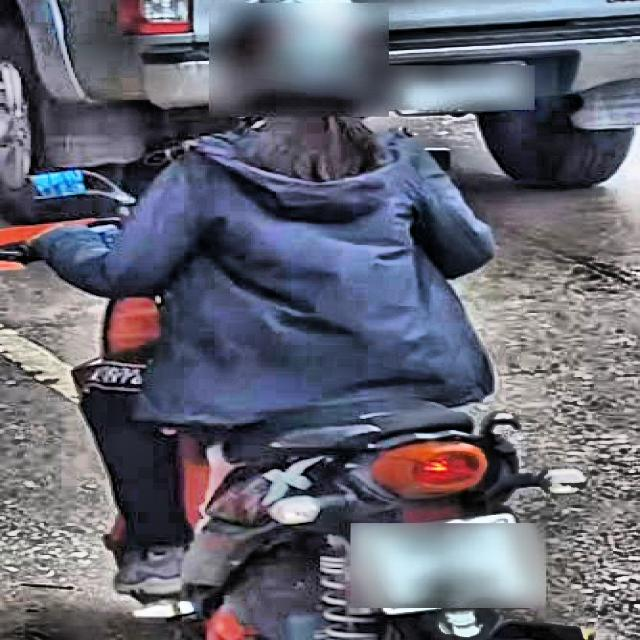motorcycle: (25, 157, 603, 640)
